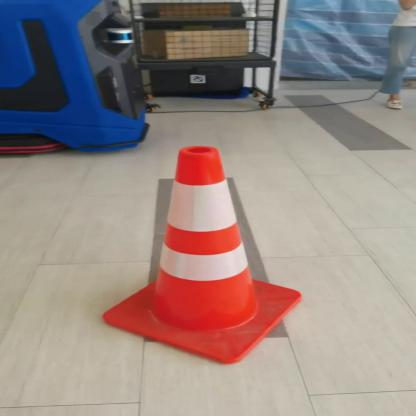cone: (90, 142, 308, 367)
